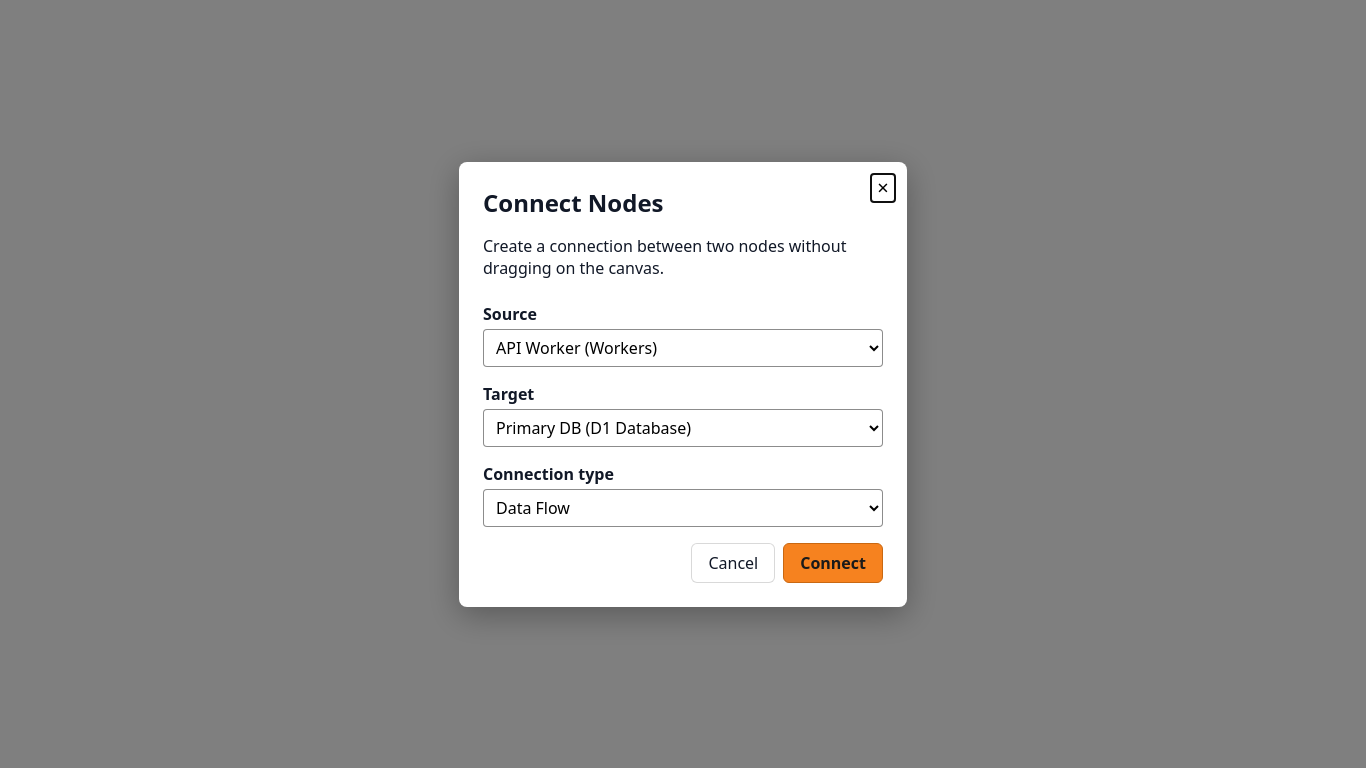
Test: making the connection › refuses a self-connection reached by changing the source
This screenshot has width=1366, height=768.
Select "Primary DB (D1 Database)" in the dropdown labelled "Source" at point(683, 348), box [483,328,883,366]
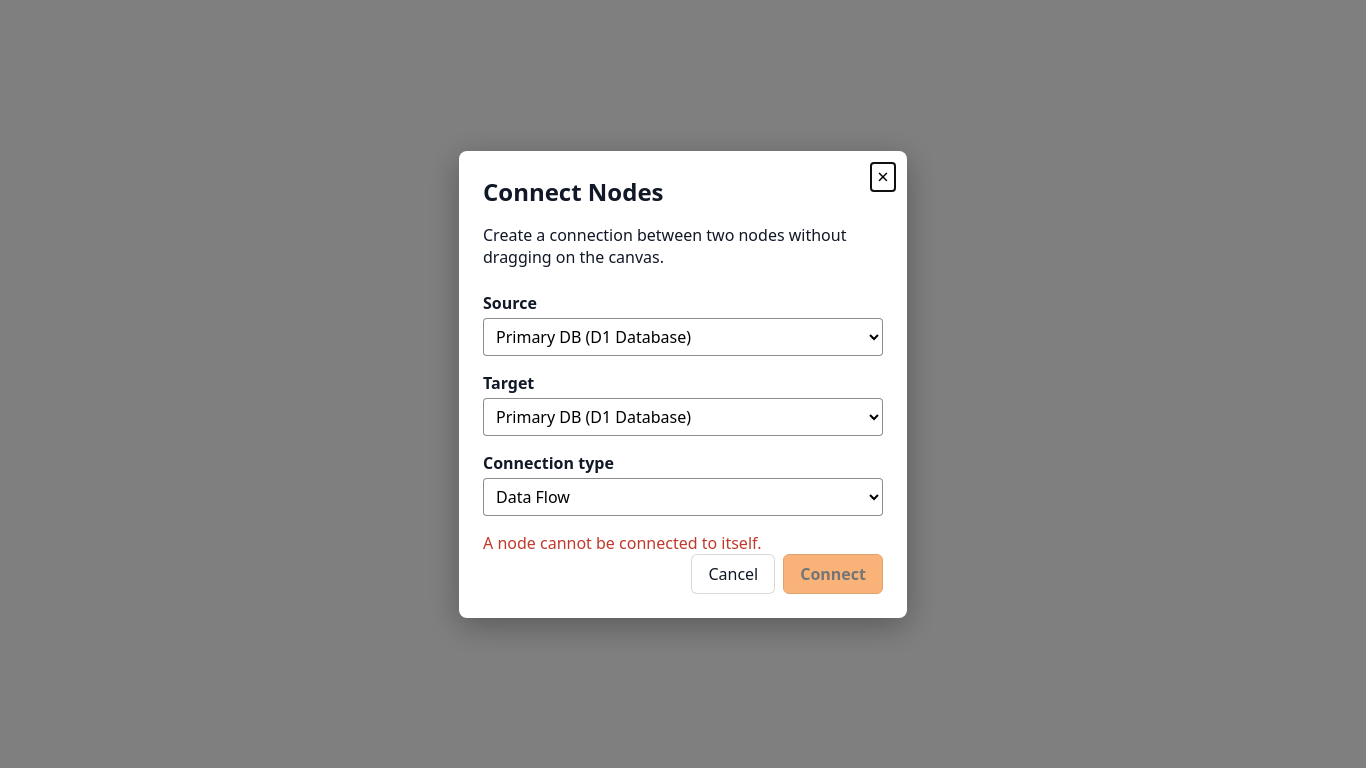
Result: the message reads "A node cannot be connected to itself." at [483,532,762,554]
Result: the button "Connect" is disabled at [783,554,883,594]
